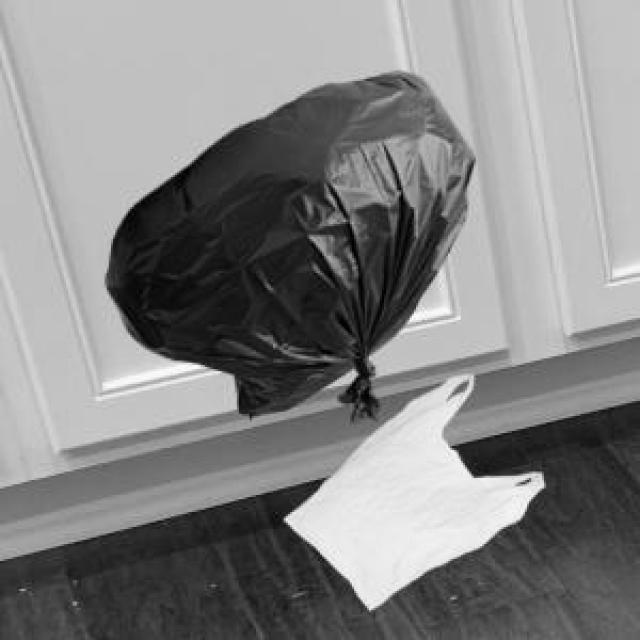miscellaneous trash: (102, 68, 469, 418), (232, 297, 413, 414)
